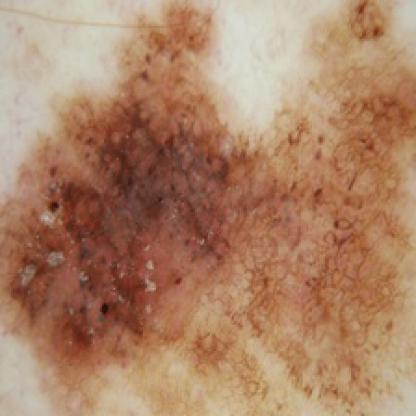malignant: (4, 41, 414, 362)
